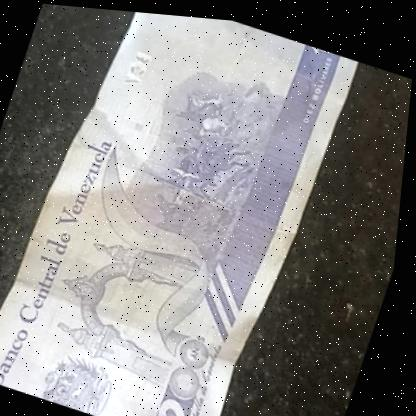ten-back-vef: (0, 0, 363, 416)
